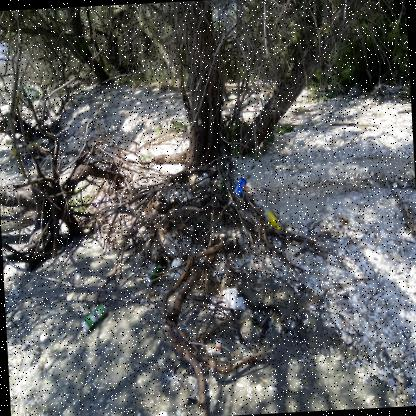Clear plastic bottle: (255, 195, 281, 230)
Drink can: (80, 303, 107, 333), (144, 264, 162, 287), (233, 177, 246, 197)
Other carton: (215, 340, 220, 354)
Plastic bottle cap: (276, 225, 281, 230)
Plastic film: (207, 287, 245, 315)
Single-use carrier bag: (168, 258, 185, 278)
